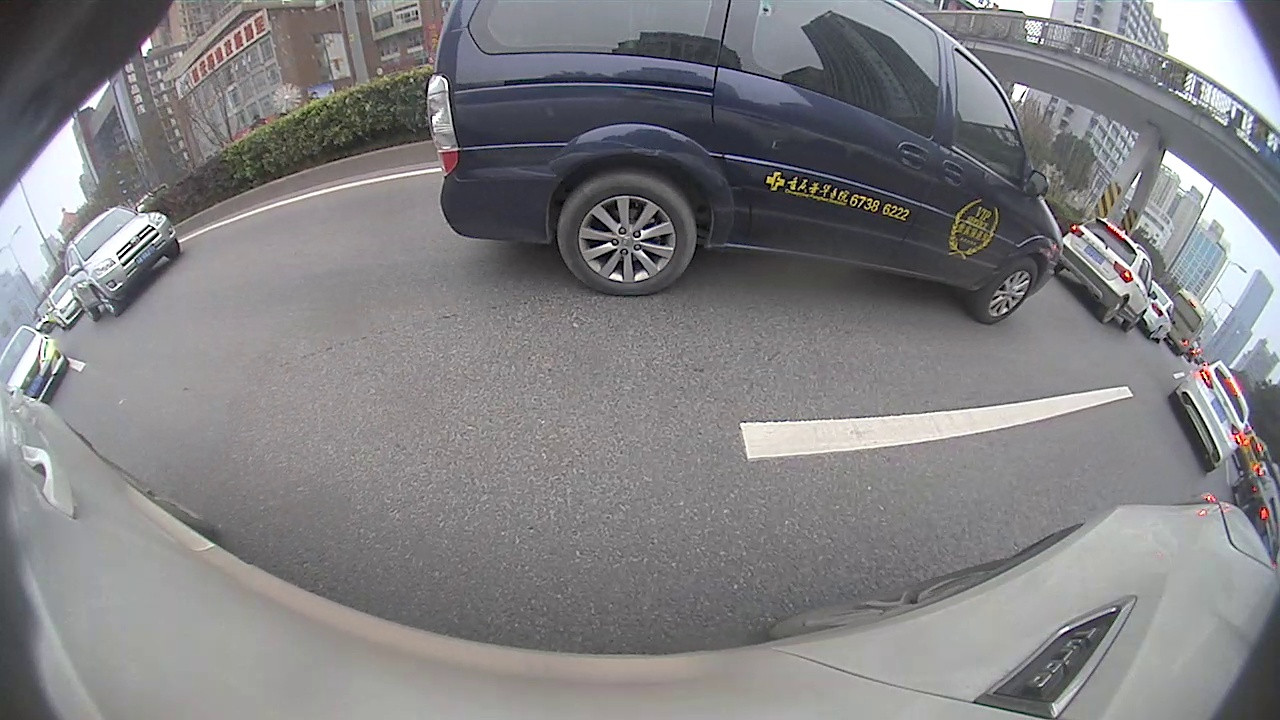car: (426, 1, 1063, 324), (64, 206, 180, 321), (1057, 213, 1158, 334), (1168, 360, 1253, 475)
front: (974, 262, 1038, 322)
rear: (560, 174, 701, 297), (1099, 294, 1126, 327)
